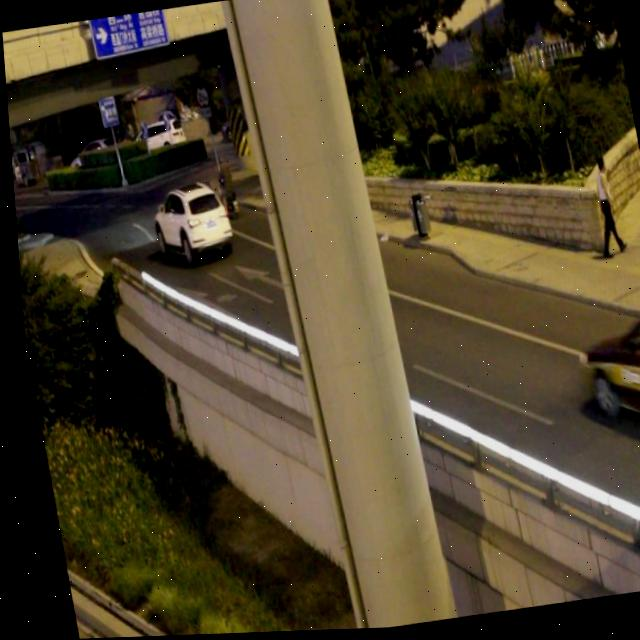car: (561, 292, 640, 458), (144, 179, 232, 266)
